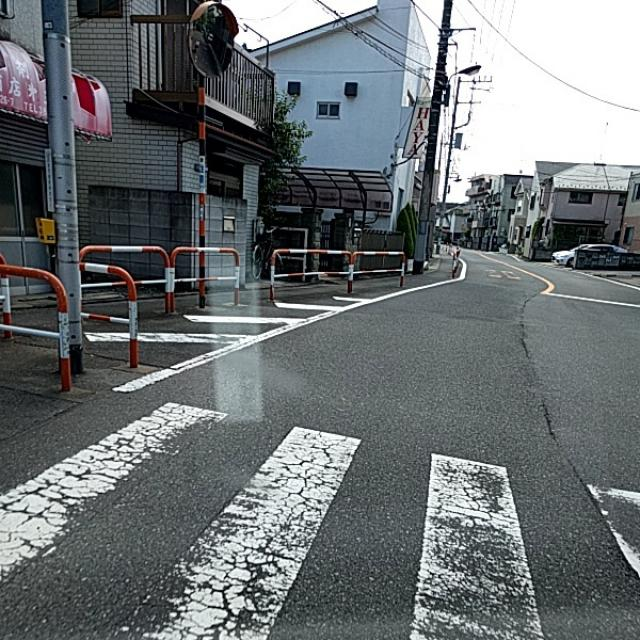pothole: (190, 484, 310, 585)
